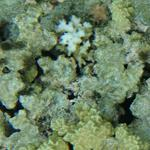dead: (1, 4, 146, 147)
